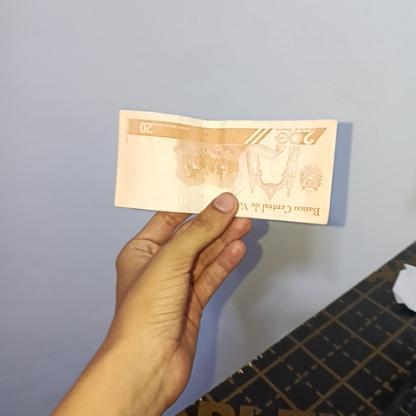twenty-back-vef: (114, 109, 338, 226)
